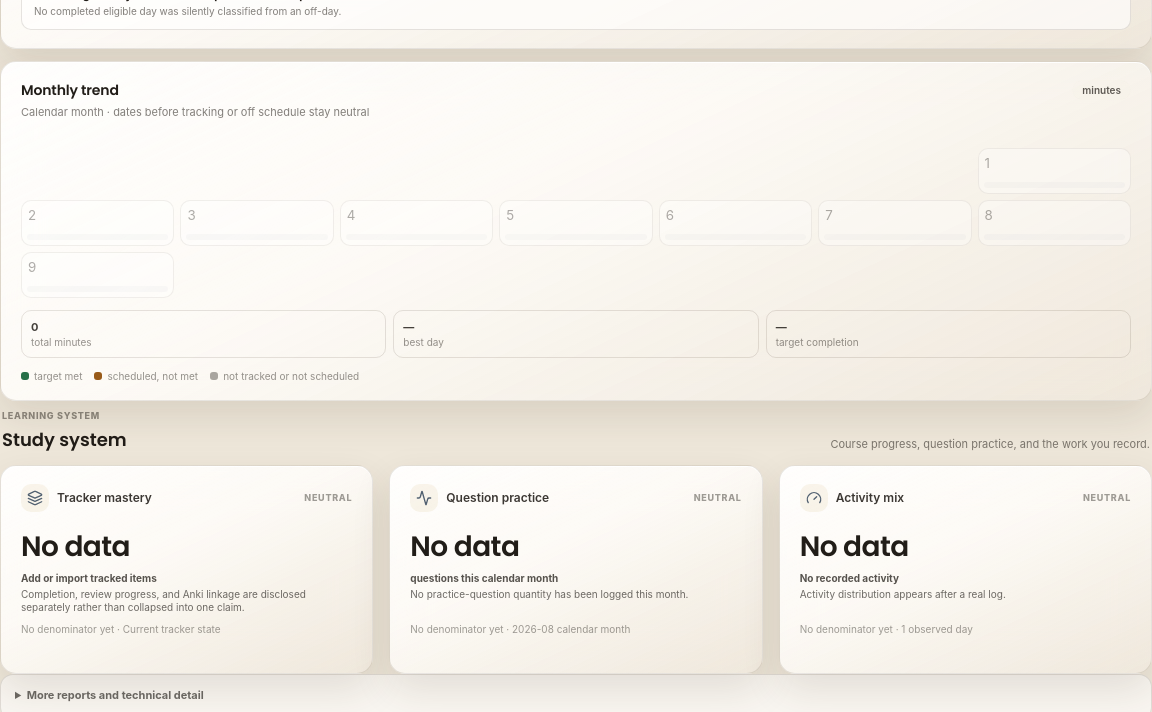
Scenario: ReportsPage › keeps performance preliminary when only lifetime journal history has enough days
(page scrolled)
Click the heading "More reports and technical detail" at (115, 694), box [27,688,204,702]
(page scrolled)
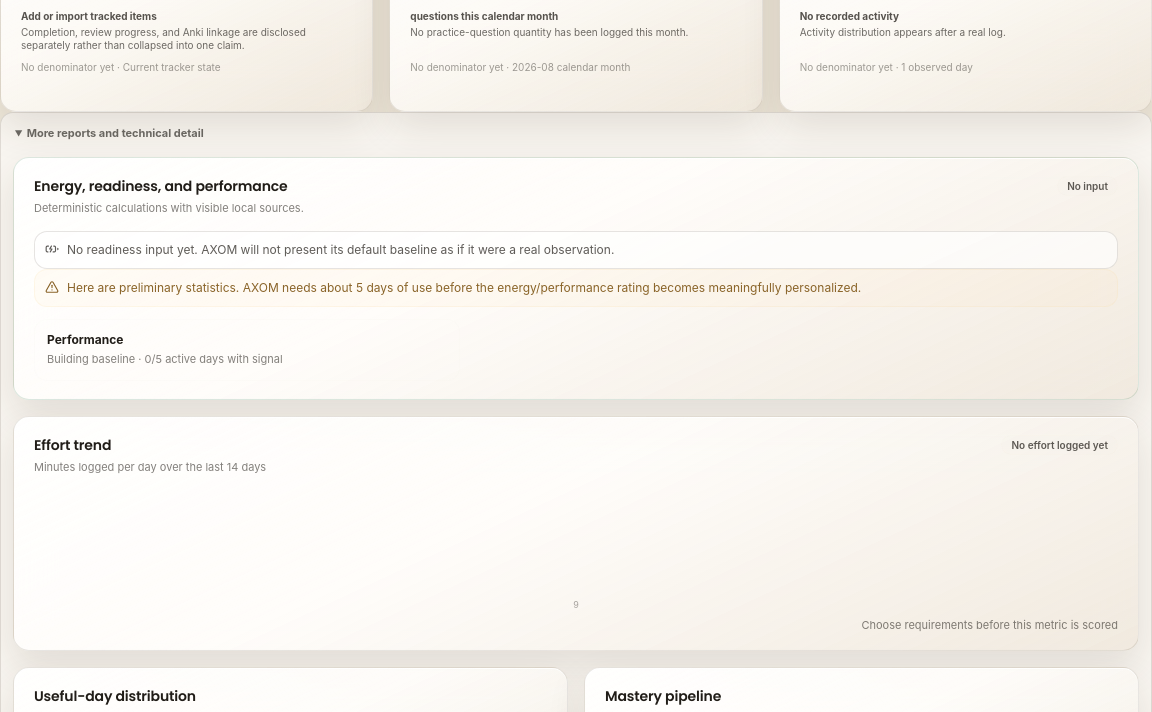
Now the text "Building baseline · 0/5 active days with signal" is shown, box [47,352,283,366]
